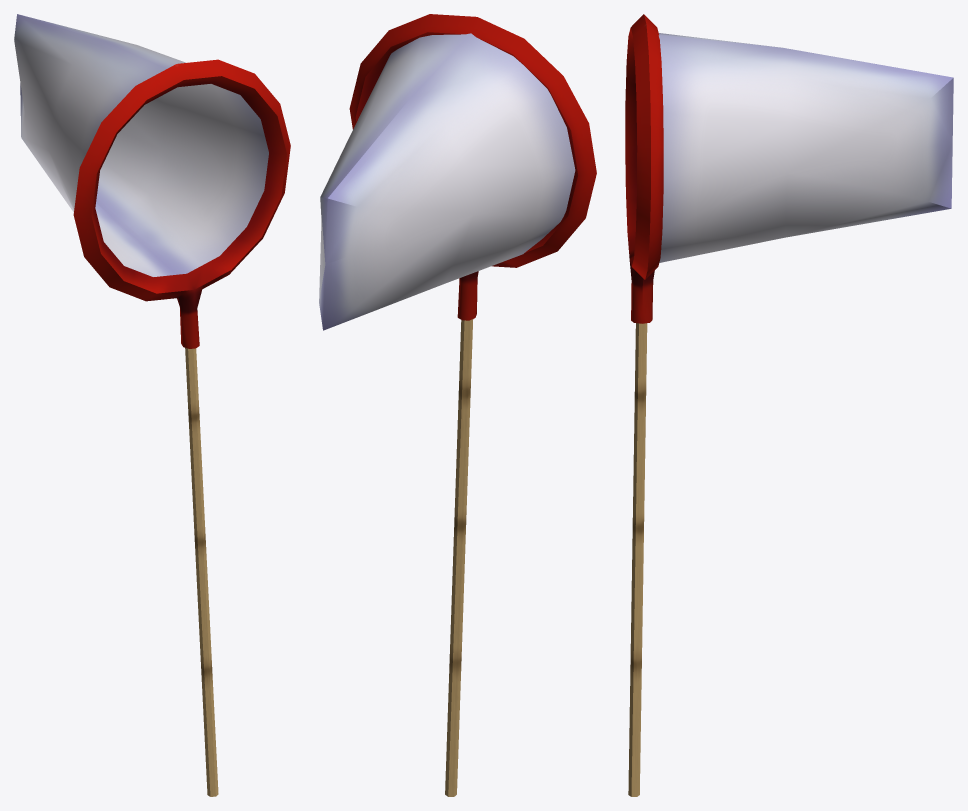
The model's file is NestNet_1.0.fbx.
3 renders of one model, left to right at view 1: azimuth 30°, elevation 25°; view 2: azimuth 150°, elevation 25°; view 3: azimuth 270°, elevation 25°, orthographic. The views are drawn at different scales.
Parts seen in each view (by area): view 1: Net, NetFrame, Stick; view 2: Net, NetFrame, Stick; view 3: Net, NetFrame, Stick.
Boxes of the visible parts, x1=… form: Net: x1=14, y1=14, x2=268, y2=276; NetFrame: x1=73, y1=59, x2=290, y2=348; Stick: x1=185, y1=347, x2=218, y2=796; Net: x1=319, y1=33, x2=575, y2=330; NetFrame: x1=349, y1=14, x2=596, y2=320; Stick: x1=445, y1=319, x2=473, y2=796; Net: x1=658, y1=33, x2=953, y2=262; NetFrame: x1=625, y1=14, x2=663, y2=323; Stick: x1=628, y1=323, x2=647, y2=796.
Bounding box in the file's own units: 40.86 × 128 × 50.53.
Materials: 1 (1 with a texture image).
